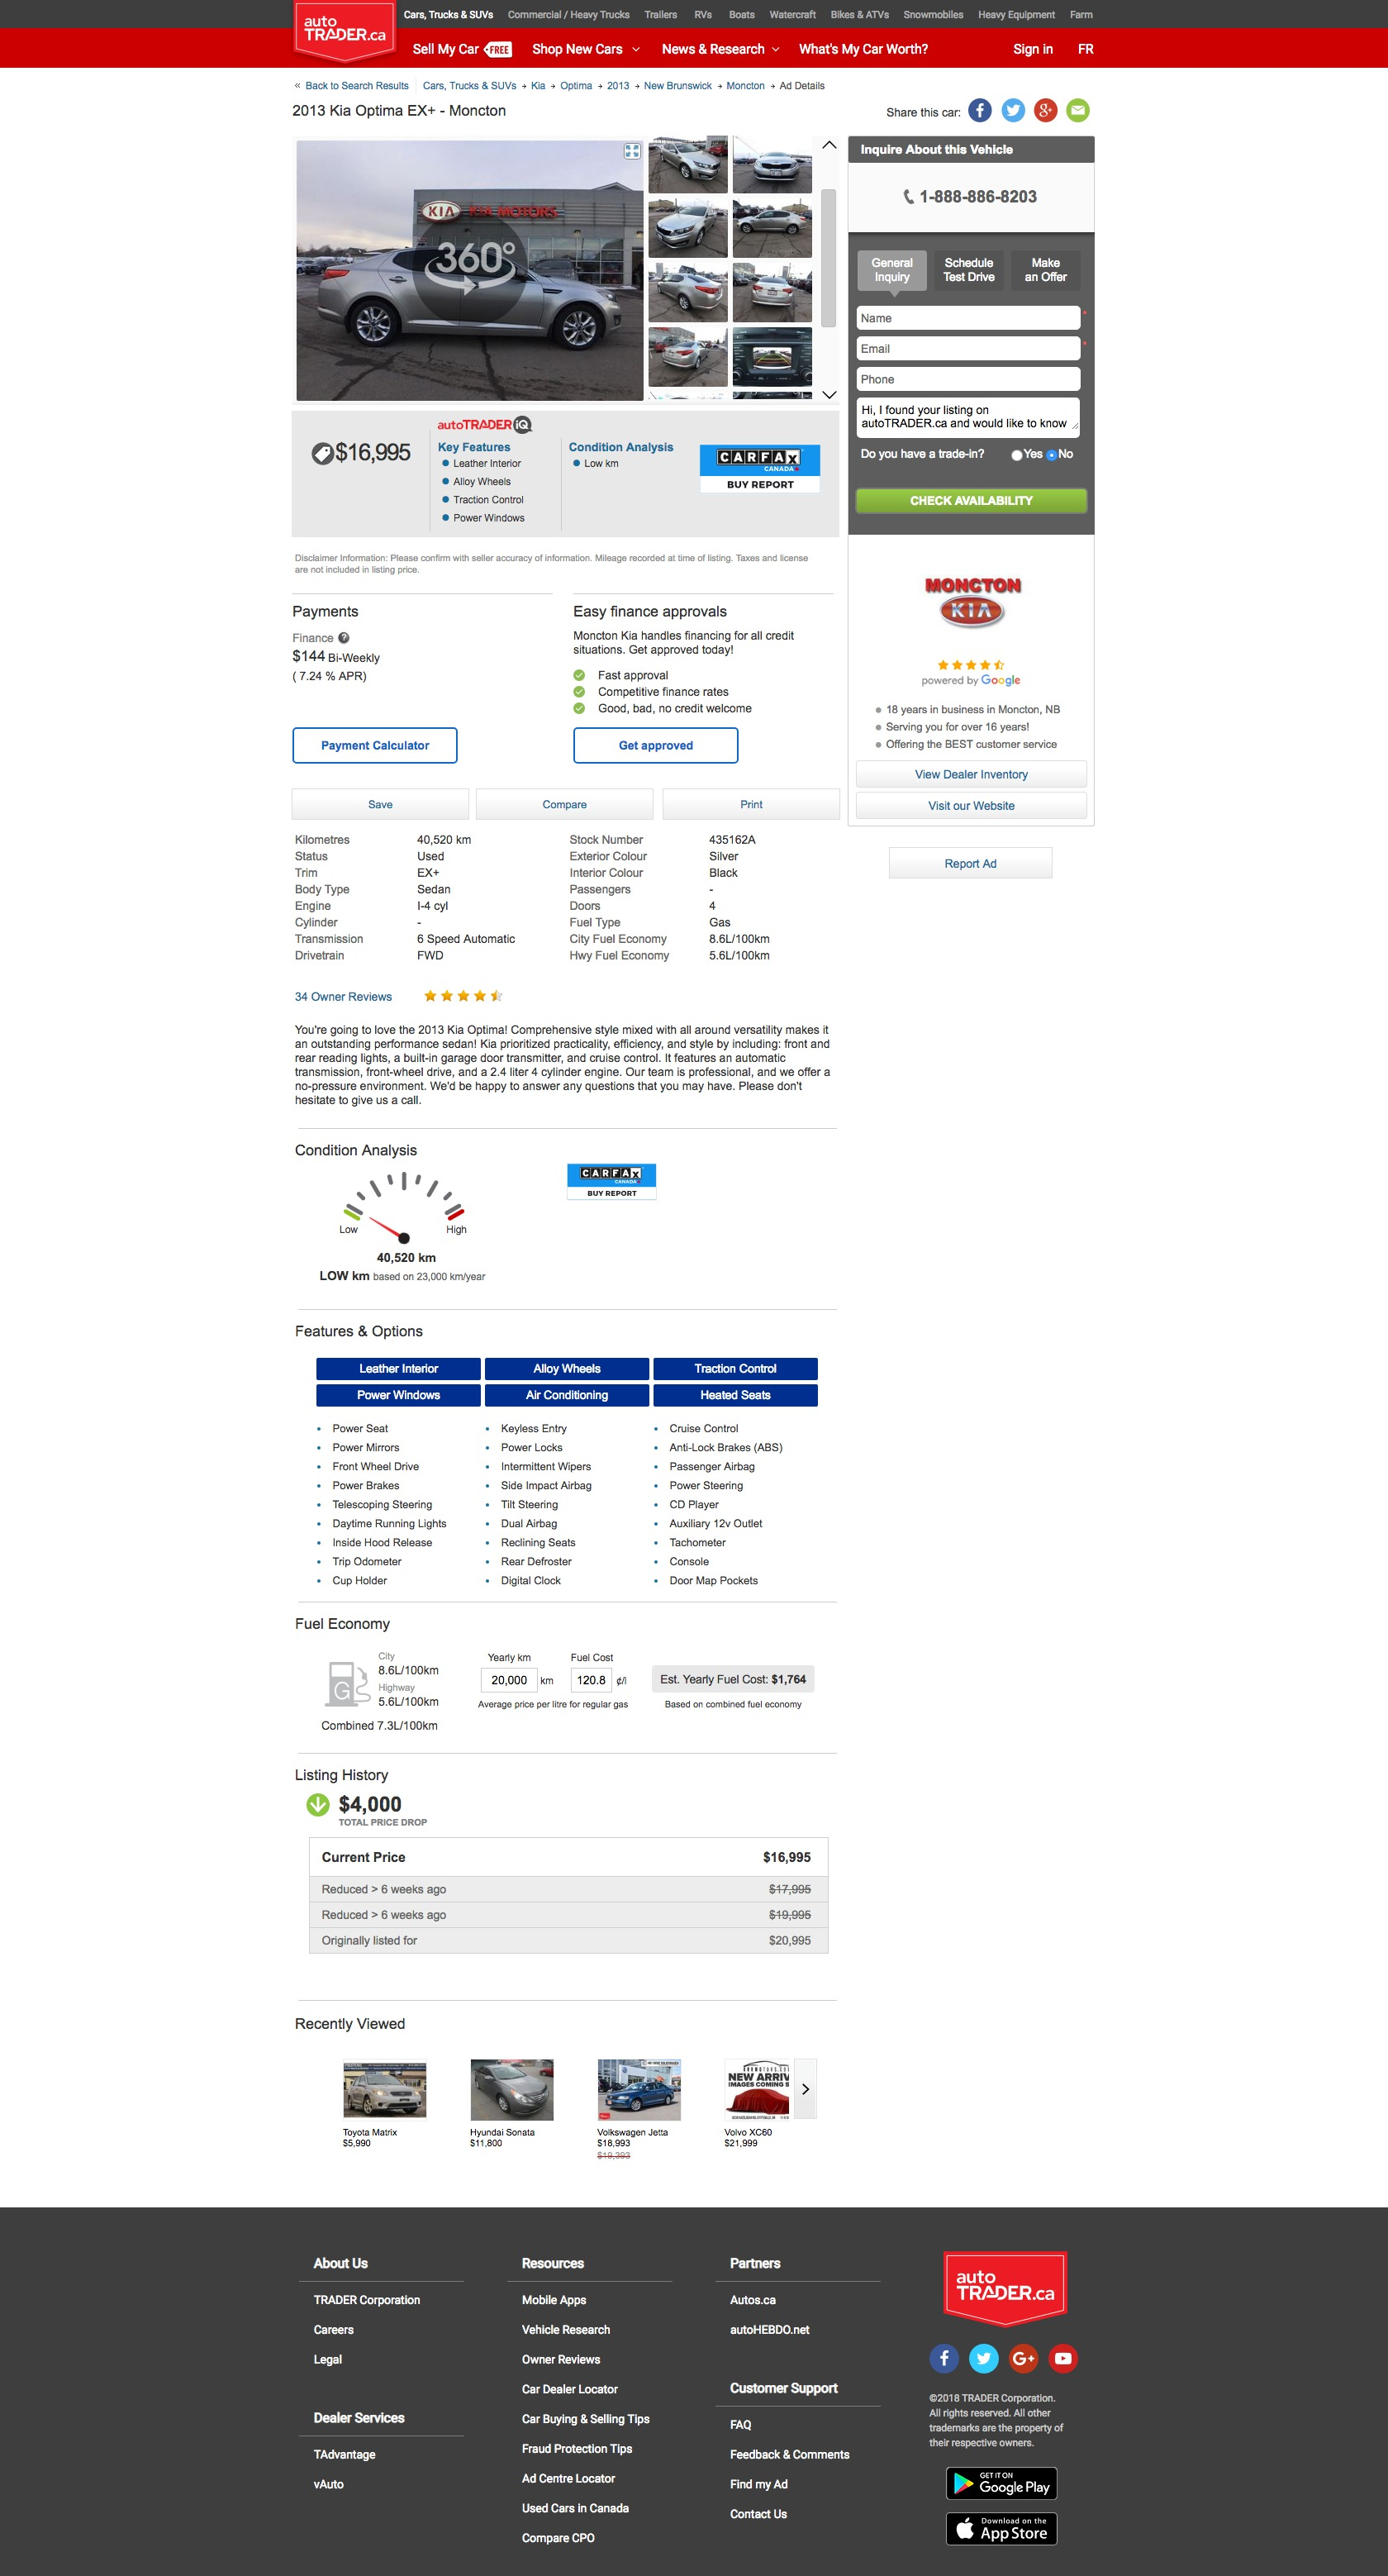car: (820, 390, 839, 400)
